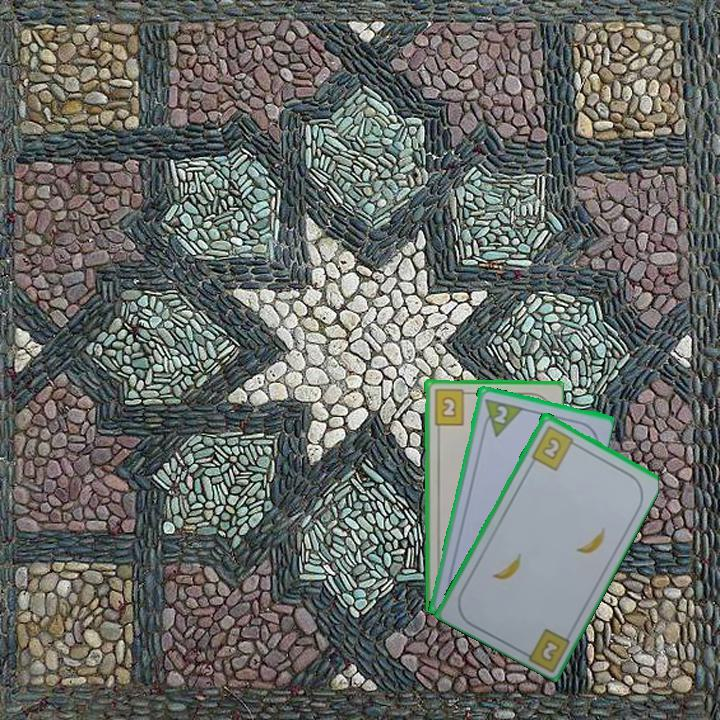2b: (528, 422, 581, 473), (431, 385, 472, 427), (539, 635, 563, 662)
2p: (490, 402, 510, 426)
